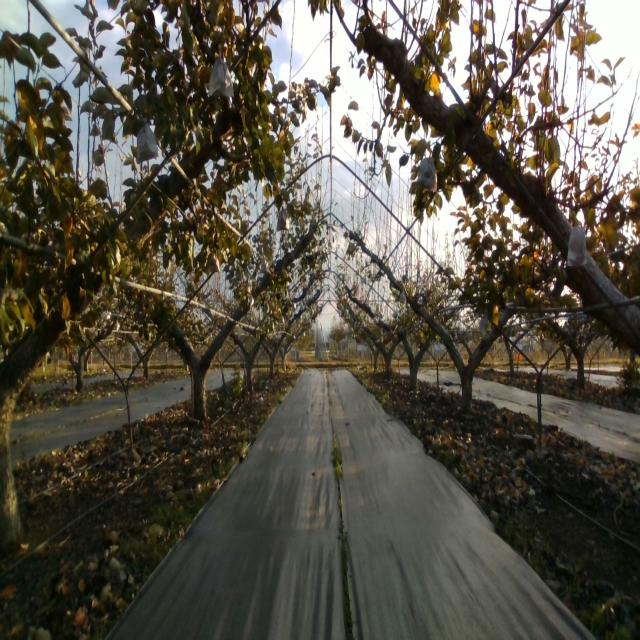pearbags: (208, 47, 234, 98), (136, 116, 159, 164), (568, 224, 588, 267), (416, 156, 438, 192), (276, 206, 290, 231), (206, 251, 221, 273), (478, 314, 489, 342)
